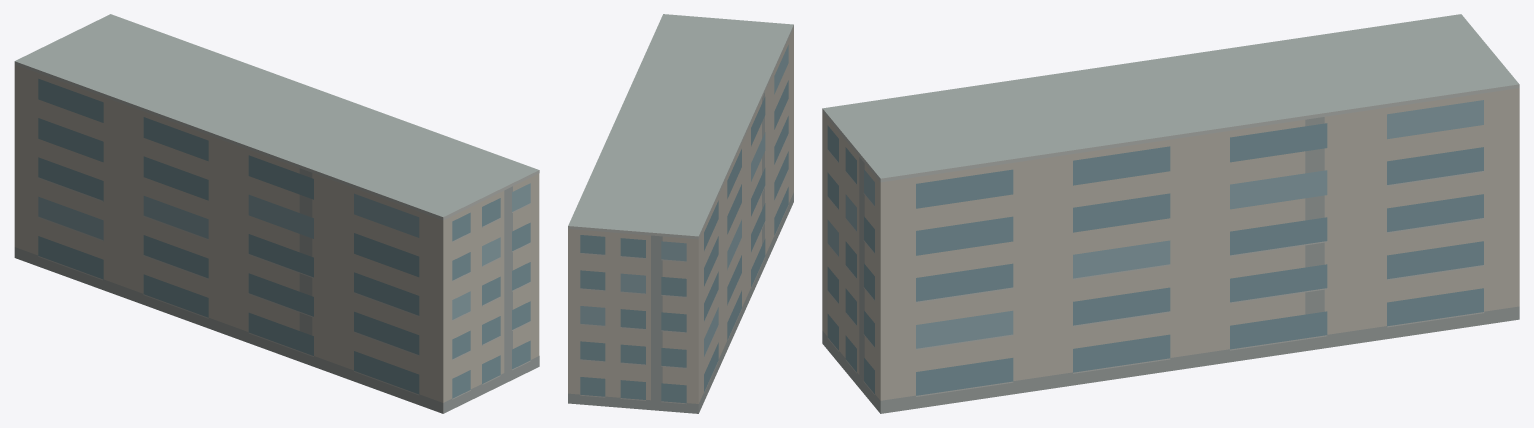
Rendered from residential-da50c0f9-a099-495b-b024-692aef171149.glb.
3 views of the same model, side by side, from view 1: azimuth 30°, elevation 25°; view 2: azimuth 150°, elevation 25°; view 3: azimuth 270°, elevation 25° (orthographic). The views are drawn at different scales.
Visible parts, largest first — view 1: residential-da50c0f9-a099-495b-b024-692aef171149.tmp; view 2: residential-da50c0f9-a099-495b-b024-692aef171149.tmp; view 3: residential-da50c0f9-a099-495b-b024-692aef171149.tmp.
Part boxes in pixels (x1,y1,x2,y2): residential-da50c0f9-a099-495b-b024-692aef171149.tmp: (14, 14, 539, 413); residential-da50c0f9-a099-495b-b024-692aef171149.tmp: (568, 14, 793, 413); residential-da50c0f9-a099-495b-b024-692aef171149.tmp: (822, 14, 1519, 413).
Bounding box in the file's own units: 22.9 × 15.25 × 40.97.
